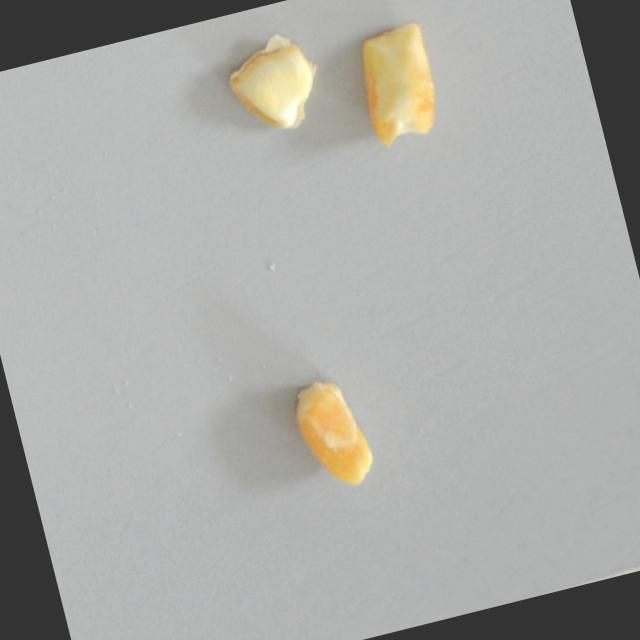estandar: (346, 15, 448, 153)
pelicula: (218, 24, 329, 151), (282, 370, 379, 497)
